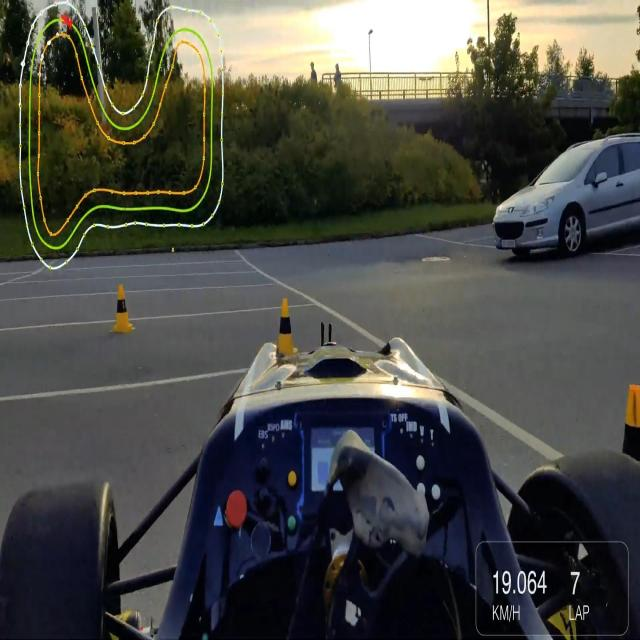yellow_cone: (616, 378, 640, 519), (110, 281, 136, 337), (276, 296, 298, 356)
